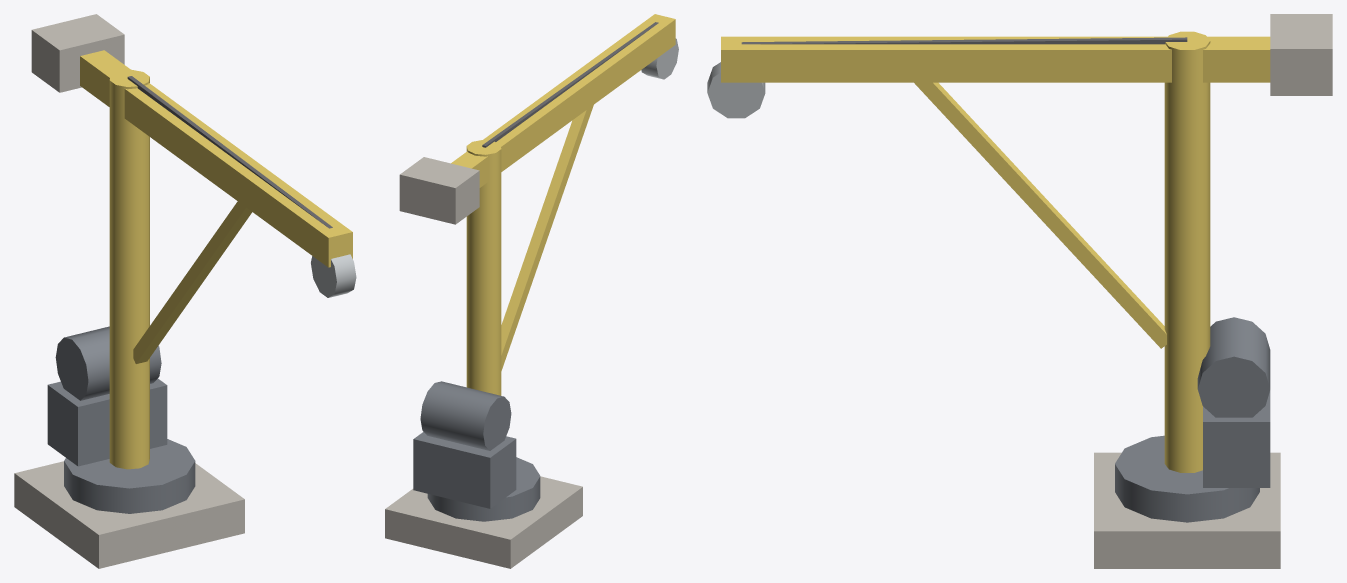
Rendered from hoist.glb.
3 views of the same model, side by side, from view 1: azimuth 30°, elevation 25°; view 2: azimuth 150°, elevation 25°; view 3: azimuth 270°, elevation 25° (orthographic). The views are drawn at different scales.
Parts seen in each view (by area): view 1: slew, hoist; view 2: slew, hoist; view 3: slew, hoist.
Boxes of the visible parts, box(x1,y1,x2,y2) form: slew: box(31, 14, 356, 513); hoist: box(14, 461, 244, 568); slew: box(399, 14, 678, 521); hoist: box(385, 476, 582, 568); slew: box(707, 14, 1332, 522); hoist: box(1094, 452, 1280, 568).
Size of the model in its own units: 1.8 by 5.3 by 6.03.
